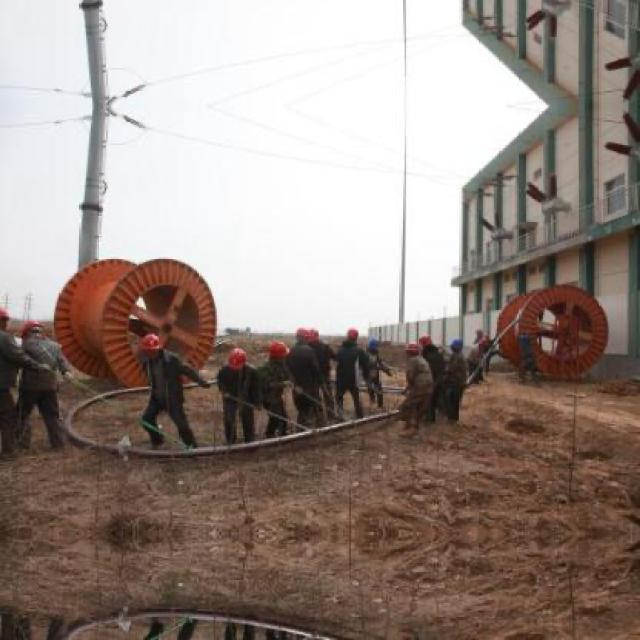con casco: (139, 317, 188, 383), (220, 338, 255, 373)
